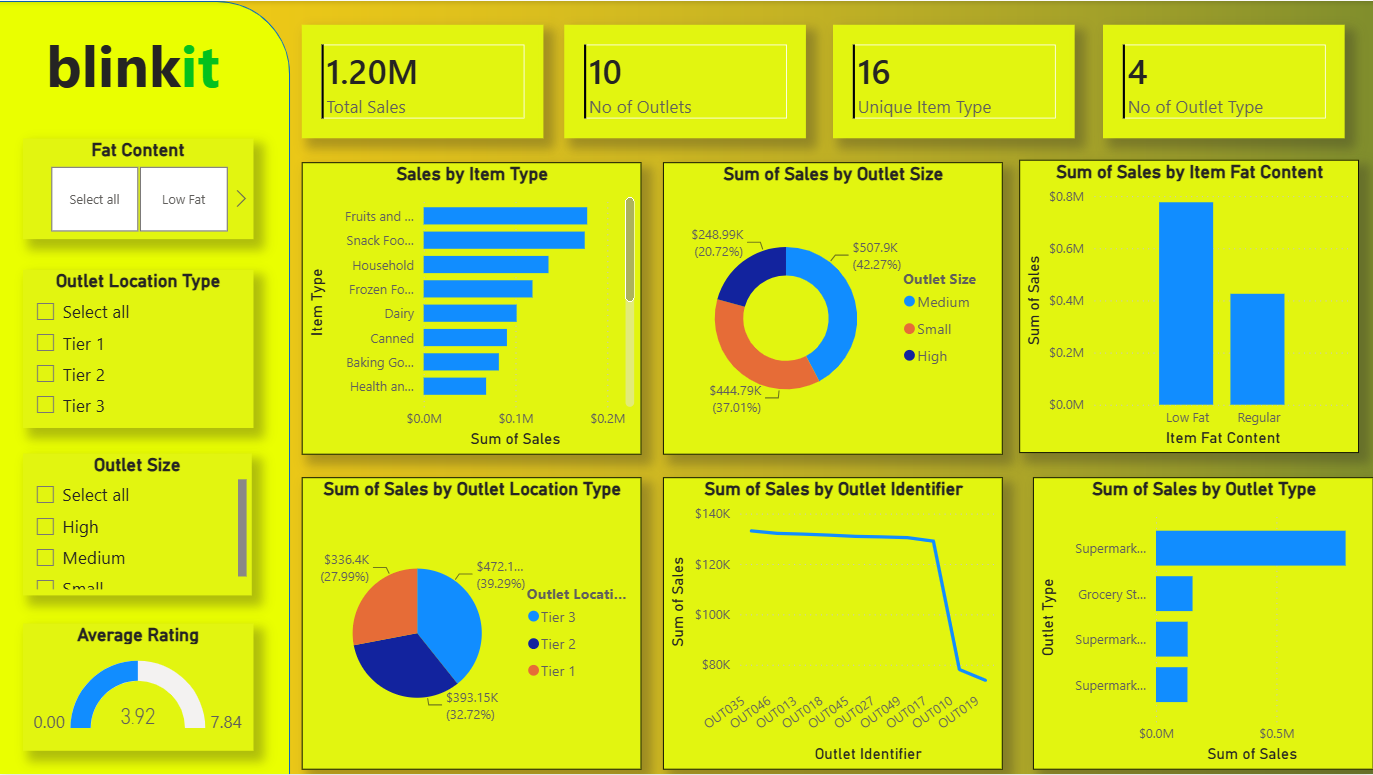

Layout of this report page (visuals, bound fields, positions):
{"tool":"powerbi","page":{"name":"Page 1","canvas":[1280,720],"ordinal":0},"visuals":[{"type":"shape","box":[0,0,271.7,720.4],"z":0},{"type":"textbox","box":[23.3,17.8,204.5,100.2],"z":1000},{"type":"cardVisual","fields":{"Data":["BlinkIT Grocery Data.Total Sales"]},"box":[282.7,22,225,105.7],"z":2000},{"type":"cardVisual","fields":{"Data":["BlinkIT Grocery Data.No of Outlets"]},"box":[526.9,22,225,105.7],"z":3000},{"type":"cardVisual","fields":{"Data":["BlinkIT Grocery Data.Unique Item Type"]},"box":[776.7,22,225,105.7],"z":4000},{"type":"cardVisual","fields":{"Data":["BlinkIT Grocery Data.No of Outlet Type"]},"box":[1027.8,22,225,105.7],"z":5000},{"type":"gauge","fields":{"Y":["BlinkIT Grocery Data.Average Rating"]},"box":[23.3,579.1,214.1,118],"z":6000},{"type":"slicer","title":"Fat Content","fields":{"Values":["BlinkIT Grocery Data.Item Fat Content"]},"box":[23.3,127.6,214.1,93.3],"z":7000},{"type":"slicer","title":"Outlet Location Type","fields":{"Values":["BlinkIT Grocery Data.Outlet Location Type"]},"box":[23.3,249.7,214.1,146.8],"z":8000},{"type":"slicer","title":"Outlet Size","fields":{"Values":["BlinkIT Grocery Data.Outlet Size"]},"box":[23.3,421.3,212.7,131.7],"z":9000},{"type":"donutChart","fields":{"Category":["BlinkIT Grocery Data.Outlet Size"],"Y":["Sum(BlinkIT Grocery Data.Sales)"]},"box":[618.9,149.6,315.6,271.7],"z":10000},{"type":"clusteredBarChart","title":"Sales by Item Type","fields":{"Category":["BlinkIT Grocery Data.Item Type"],"Y":["Sum(BlinkIT Grocery Data.Sales)"]},"box":[282.7,149.6,315.6,271.7],"z":11000},{"type":"pieChart","fields":{"Y":["Sum(BlinkIT Grocery Data.Sales)"],"Category":["BlinkIT Grocery Data.Outlet Location Type"]},"box":[282.7,443.2,315.6,271.7],"z":12000},{"type":"lineChart","fields":{"Category":["BlinkIT Grocery Data.Outlet Identifier"],"Y":["Sum(BlinkIT Grocery Data.Sales)"]},"box":[619,443,316,272],"z":13000},{"type":"columnChart","fields":{"Y":["Sum(BlinkIT Grocery Data.Sales)"],"Category":["BlinkIT Grocery Data.Item Fat Content"]},"box":[949.6,148.2,315.6,273.1],"z":14000},{"type":"clusteredBarChart","fields":{"Category":["BlinkIT Grocery Data.Outlet Type"],"Y":["Sum(BlinkIT Grocery Data.Sales)"]},"box":[963.3,443.2,317,271.7],"z":15000}]}

Visuals, with their boxes in screenshot pixels (x1, y1, x2, y2), scaled from the page's 1280x720 canvas onto the 1373x775 screenshot:
shape: (left=0, top=0, right=291, bottom=774)
textbox: (left=25, top=19, right=244, bottom=127)
cardVisual - BlinkIT Grocery Data.Total Sales: (left=303, top=24, right=545, bottom=137)
cardVisual - BlinkIT Grocery Data.No of Outlets: (left=565, top=24, right=807, bottom=137)
cardVisual - BlinkIT Grocery Data.Unique Item Type: (left=833, top=24, right=1074, bottom=137)
cardVisual - BlinkIT Grocery Data.No of Outlet Type: (left=1102, top=24, right=1344, bottom=137)
gauge - BlinkIT Grocery Data.Average Rating: (left=25, top=623, right=255, bottom=750)
"Fat Content" slicer: (left=25, top=137, right=255, bottom=238)
"Outlet Location Type" slicer: (left=25, top=269, right=255, bottom=427)
"Outlet Size" slicer: (left=25, top=453, right=253, bottom=595)
donutChart - BlinkIT Grocery Data.Outlet Size x Sum(BlinkIT Grocery Data.Sales): (left=664, top=161, right=1002, bottom=453)
"Sales by Item Type" clusteredBarChart: (left=303, top=161, right=642, bottom=453)
pieChart - Sum(BlinkIT Grocery Data.Sales) x BlinkIT Grocery Data.Outlet Location Type: (left=303, top=477, right=642, bottom=770)
lineChart - BlinkIT Grocery Data.Outlet Identifier x Sum(BlinkIT Grocery Data.Sales): (left=664, top=477, right=1003, bottom=770)
columnChart - Sum(BlinkIT Grocery Data.Sales) x BlinkIT Grocery Data.Item Fat Content: (left=1019, top=160, right=1357, bottom=453)
clusteredBarChart - BlinkIT Grocery Data.Outlet Type x Sum(BlinkIT Grocery Data.Sales): (left=1033, top=477, right=1372, bottom=770)
